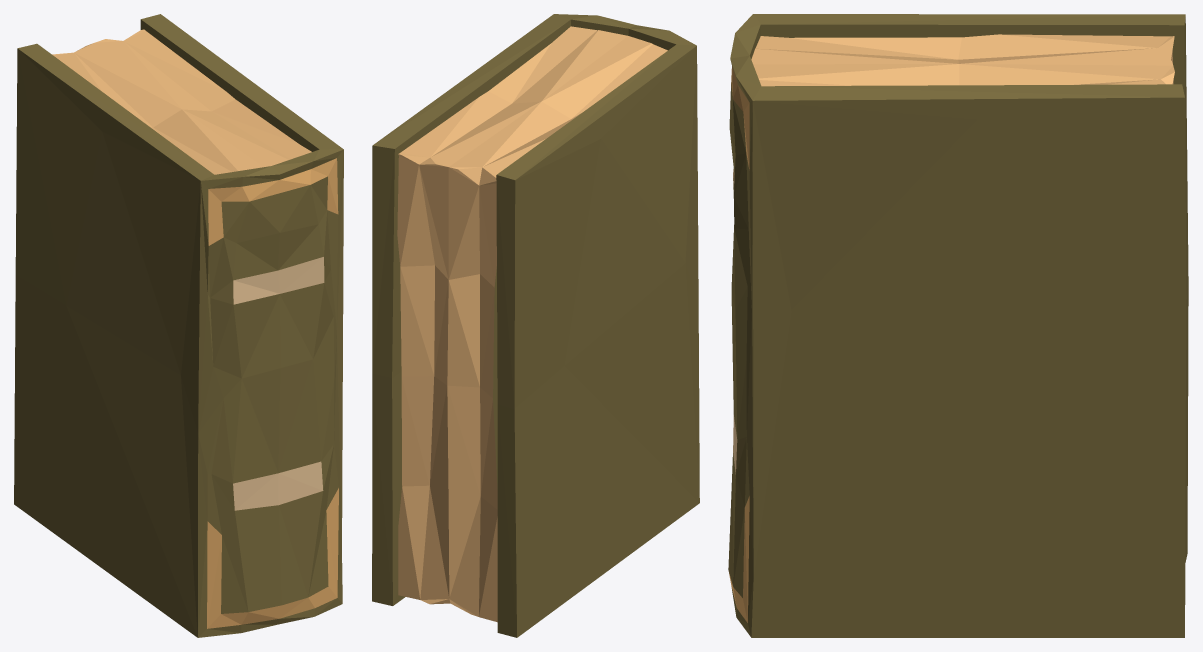
File: Book_008.fbx
3 renders of one model, left to right at view 1: azimuth 30°, elevation 25°; view 2: azimuth 150°, elevation 25°; view 3: azimuth 270°, elevation 25°, orthographic. The views are drawn at different scales.
Visible parts, largest first — view 1: Book_008; view 2: Book_008; view 3: Book_008.
Boxes of the visible parts, x1=… form: Book_008: x1=14, y1=14, x2=343, y2=637; Book_008: x1=372, y1=14, x2=699, y2=637; Book_008: x1=728, y1=14, x2=1188, y2=637.
Size of the model in its own units: 0.106 by 0.3153 by 0.2418.
